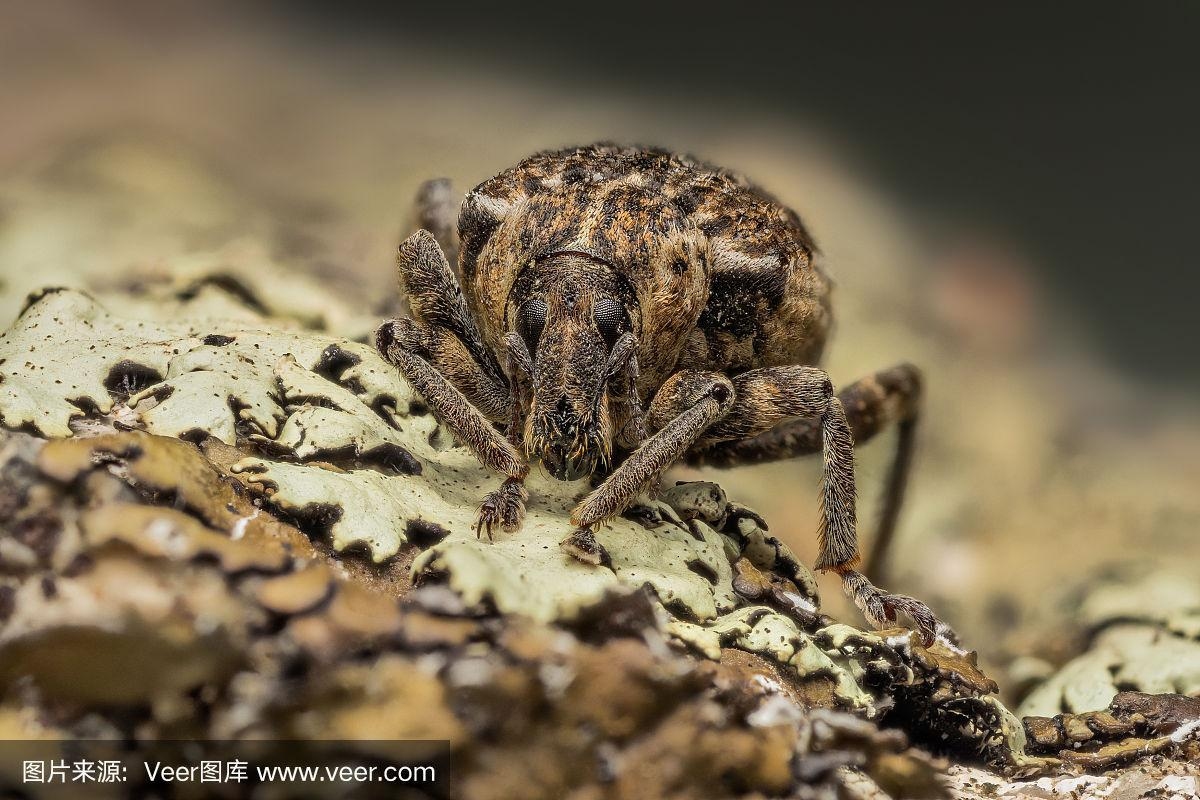Curculionidae: (373, 141, 946, 652)
